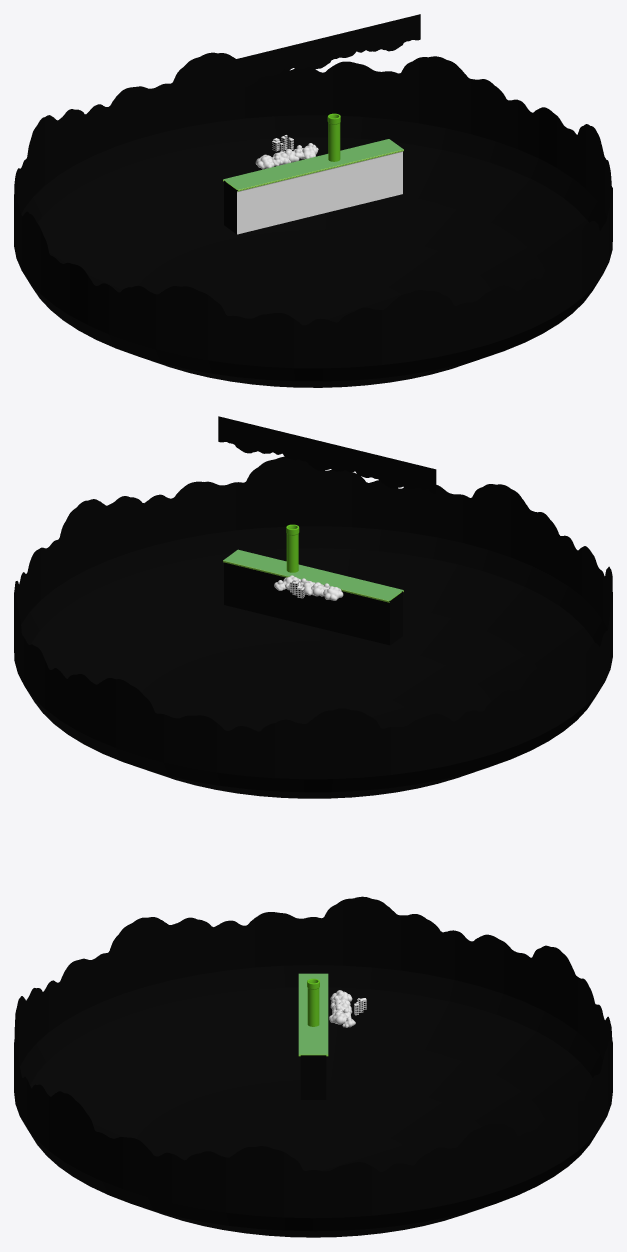
File: Level.fbx
3 views of the same model, one above another, from view 1: azimuth 30°, elevation 25°; view 2: azimuth 150°, elevation 25°; view 3: azimuth 270°, elevation 25° (orthographic).
Parts seen in each view (by area): view 1: Cloud, Floor, FrontCloud, Pipe; view 2: Cloud, Floor, FrontCloud, Pipe; view 3: Cloud, Floor, Pipe.
Part boxes in pixels (x1,y1,x2,y2): Cloud: (14, 52, 612, 387); Floor: (223, 139, 403, 234); FrontCloud: (202, 14, 420, 92); Pipe: (327, 113, 340, 161); Cloud: (14, 456, 612, 798); Floor: (223, 549, 403, 645); FrontCloud: (218, 416, 436, 494); Pipe: (286, 524, 299, 572); Cloud: (14, 896, 612, 1237); Floor: (298, 973, 328, 1099); Pipe: (307, 978, 319, 1026).
Size of the model in its own units: 20000 by 10658 by 20000.
